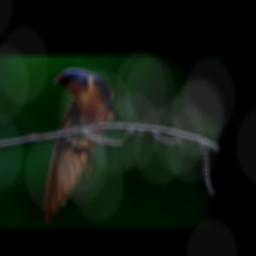Swallow: (40, 67, 128, 224)
